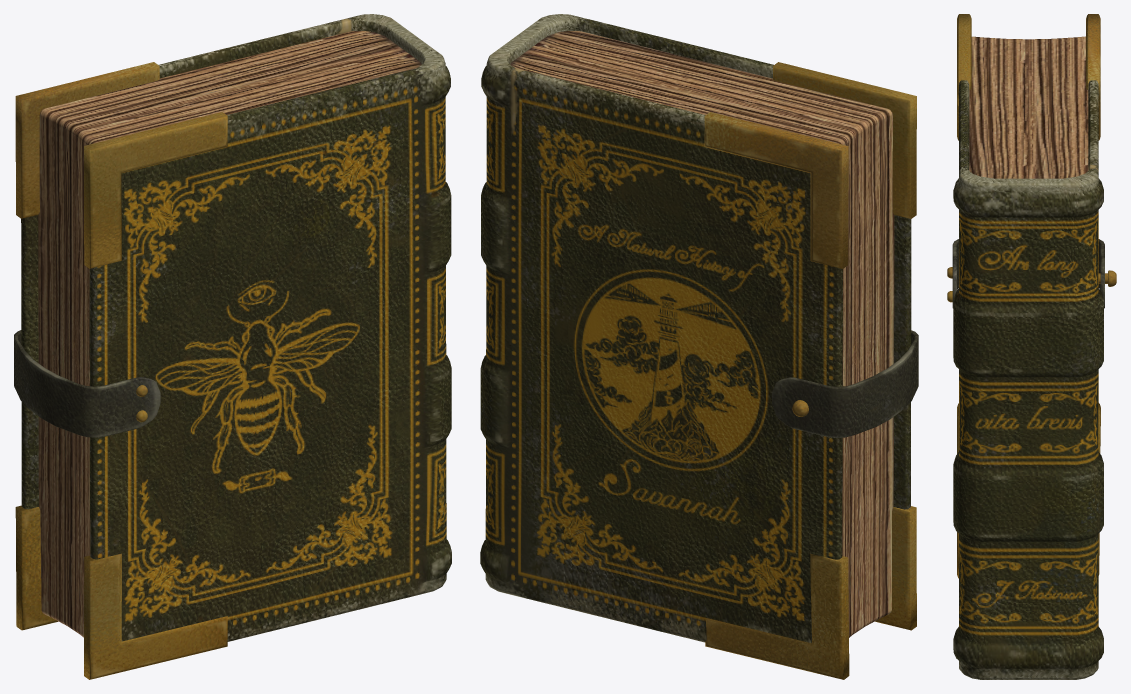
File: SM_Book_A.fbx
3 views of the same model, side by side, from view 1: azimuth 30°, elevation 25°; view 2: azimuth 150°, elevation 25°; view 3: azimuth 270°, elevation 25° (orthographic). The views are drawn at different scales.
Parts seen in each view (by area): view 1: Book_01; view 2: Book_01; view 3: Book_01.
Boxes of the visible parts, x1,y1,x2,y2 form: Book_01: (14,14,451,679); Book_01: (480,14,918,679); Book_01: (947,14,1116,679).
Size of the model in its own units: 0.7767 by 0.3099 by 1.01.
